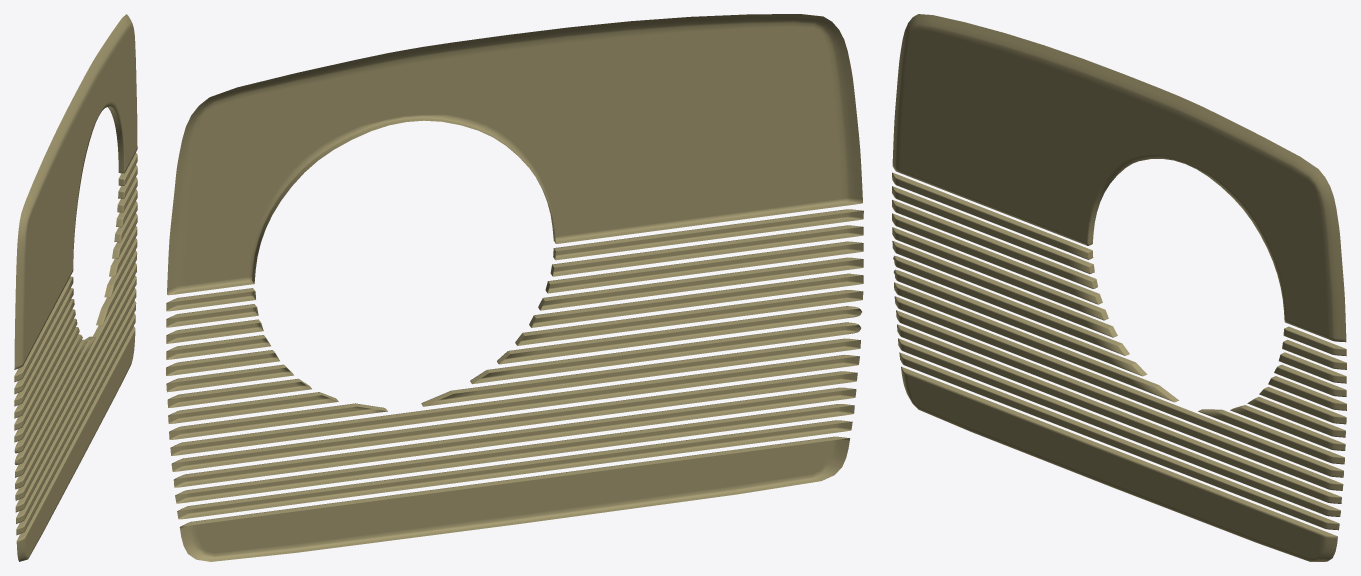
The model's file is RadioPlastic_0003.obj.
3 renders of one model, left to right at view 1: azimuth 30°, elevation 25°; view 2: azimuth 150°, elevation 25°; view 3: azimuth 270°, elevation 25°, orthographic. The views are drawn at different scales.
Parts seen in each view (by area): view 1: RadioPlastic_0003; view 2: RadioPlastic_0003; view 3: RadioPlastic_0003.
Boxes of the visible parts, x1,y1,x2,y2 form: RadioPlastic_0003: [14, 14, 137, 561]; RadioPlastic_0003: [166, 14, 863, 561]; RadioPlastic_0003: [892, 14, 1346, 561].
Size of the model in its own units: 0.1657 by 0.1812 by 0.1802.
